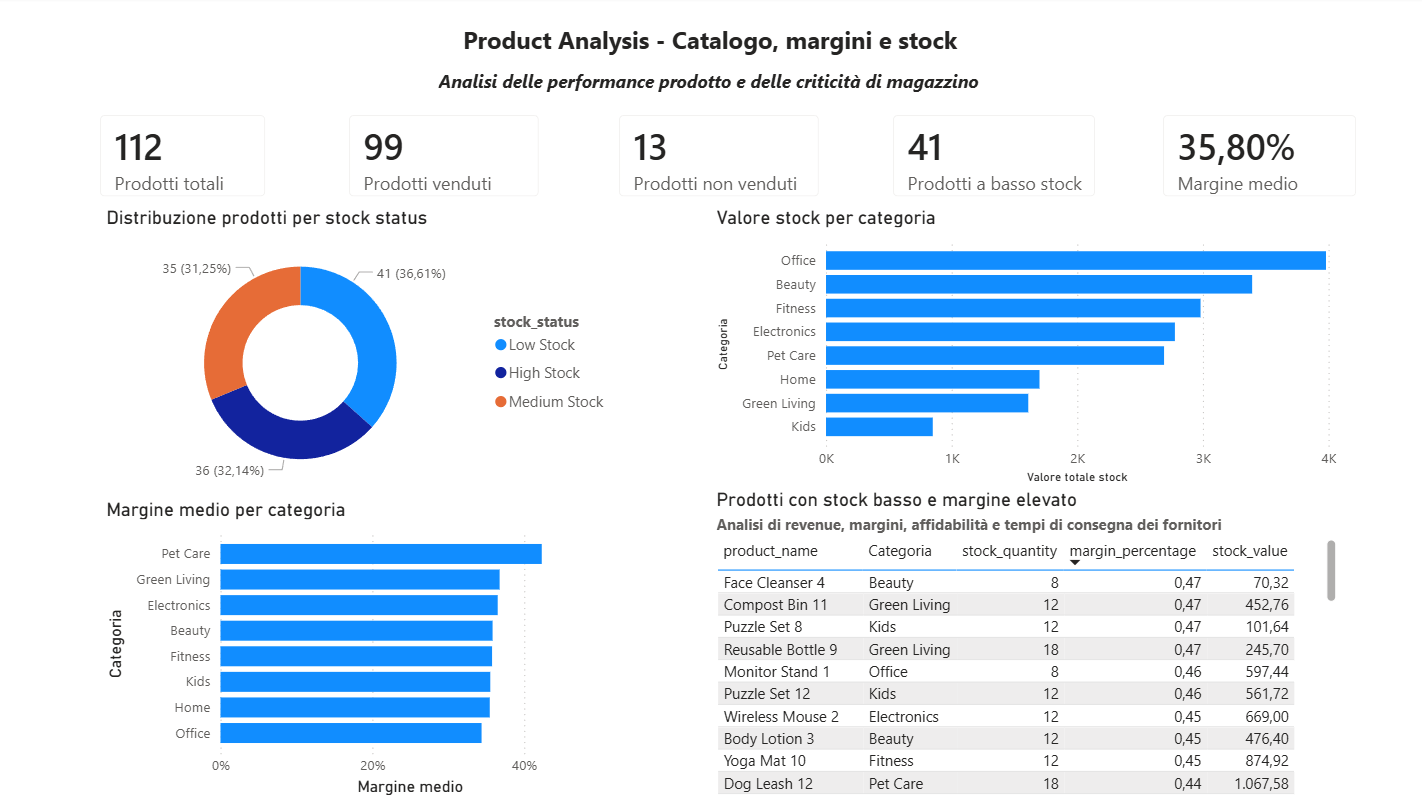

The page's visual inventory and layout, read from the dashboard file:
{"tool":"powerbi","page":{"name":"Analisi Catalogo","canvas":[1280,720],"ordinal":1},"visuals":[{"type":"textbox","box":[403,19,473,40],"z":0},{"type":"textbox","box":[391,59,497,40],"z":1000},{"type":"cardVisual","fields":{"Data":["products.Unsold Products"]},"box":[541,89,213,107],"z":2000},{"type":"cardVisual","fields":{"Data":["sales_analysis.Average Margin %"]},"box":[1028,89,207,107],"z":3000},{"type":"cardVisual","fields":{"Data":["products.Total Products"]},"box":[76,89,182,107],"z":4000},{"type":"cardVisual","fields":{"Data":["sales_analysis.Products Sold"]},"box":[299,89,204,107],"z":5000},{"type":"cardVisual","fields":{"Data":["products.Low Stock Products"]},"box":[786,89,215,107],"z":6000},{"type":"donutChart","title":"Distribuzione prodotti per stock status","fields":{"Category":["products.stock_status"],"Y":["Count(products.product_id)"]},"box":[94,187,464,262],"z":7000},{"type":"clusteredBarChart","title":"Valore stock per categoria","fields":{"Category":["products.category"],"Y":["products.Total Stock Value"]},"box":[640,187,565,253],"z":8000},{"type":"clusteredBarChart","title":"Margine medio per categoria","fields":{"Category":["products.category"],"Y":["sales_analysis.Average Margin %"]},"box":[94,449,464,271],"z":9000},{"type":"tableEx","title":"Prodotti con stock basso e margine elevato","fields":{"Values":["products.product_name","products.category","products.stock_quantity","products.margin_percentage","products.stock_value"]},"box":[640,440,565,280],"z":10000}]}

Visuals, with their boxes in screenshot pixels (x1, y1, x2, y2), scaled from the page's 1280x720 canvas onto the 1422x798 screenshot:
textbox: <bbox>448, 21, 973, 65</bbox>
textbox: <bbox>434, 65, 987, 110</bbox>
cardVisual - products.Unsold Products: <bbox>601, 99, 838, 217</bbox>
cardVisual - sales_analysis.Average Margin %: <bbox>1142, 99, 1372, 217</bbox>
cardVisual - products.Total Products: <bbox>84, 99, 287, 217</bbox>
cardVisual - sales_analysis.Products Sold: <bbox>332, 99, 559, 217</bbox>
cardVisual - products.Low Stock Products: <bbox>873, 99, 1112, 217</bbox>
"Distribuzione prodotti per stock status" donutChart: <bbox>104, 207, 620, 498</bbox>
"Valore stock per categoria" clusteredBarChart: <bbox>711, 207, 1339, 488</bbox>
"Margine medio per categoria" clusteredBarChart: <bbox>104, 498, 620, 797</bbox>
"Prodotti con stock basso e margine elevato" tableEx: <bbox>711, 488, 1339, 797</bbox>
